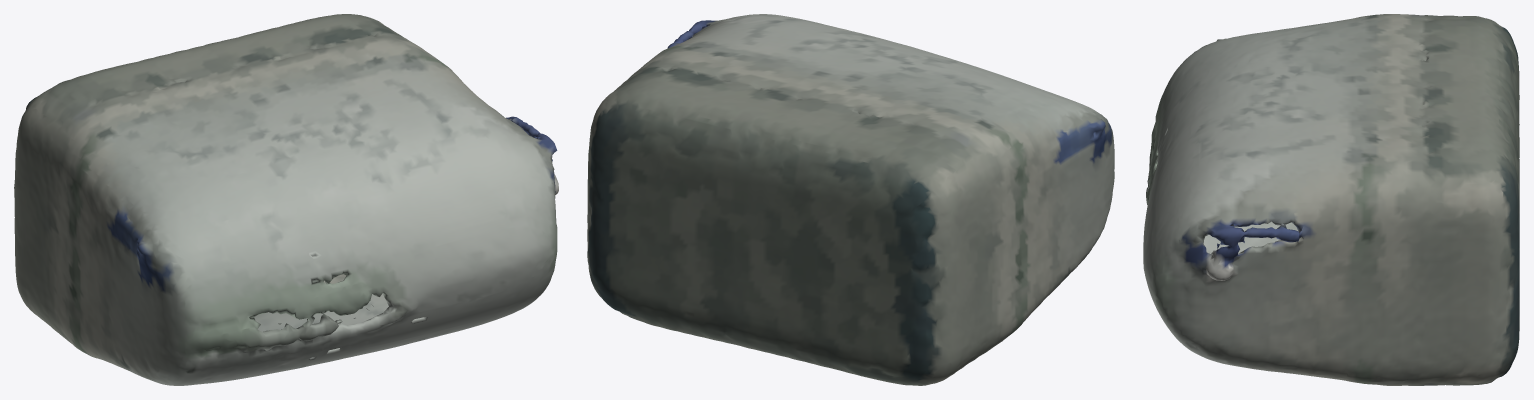
File: lunch_bag.glb
The picture shows the model from 3 angles, left to right: view 1: azimuth 30°, elevation 25°; view 2: azimuth 150°, elevation 25°; view 3: azimuth 270°, elevation 25°; orthographic projection. The views are drawn at different scales.
Bounding box in the file's own units: 0.9997 × 0.5497 × 0.8033.
